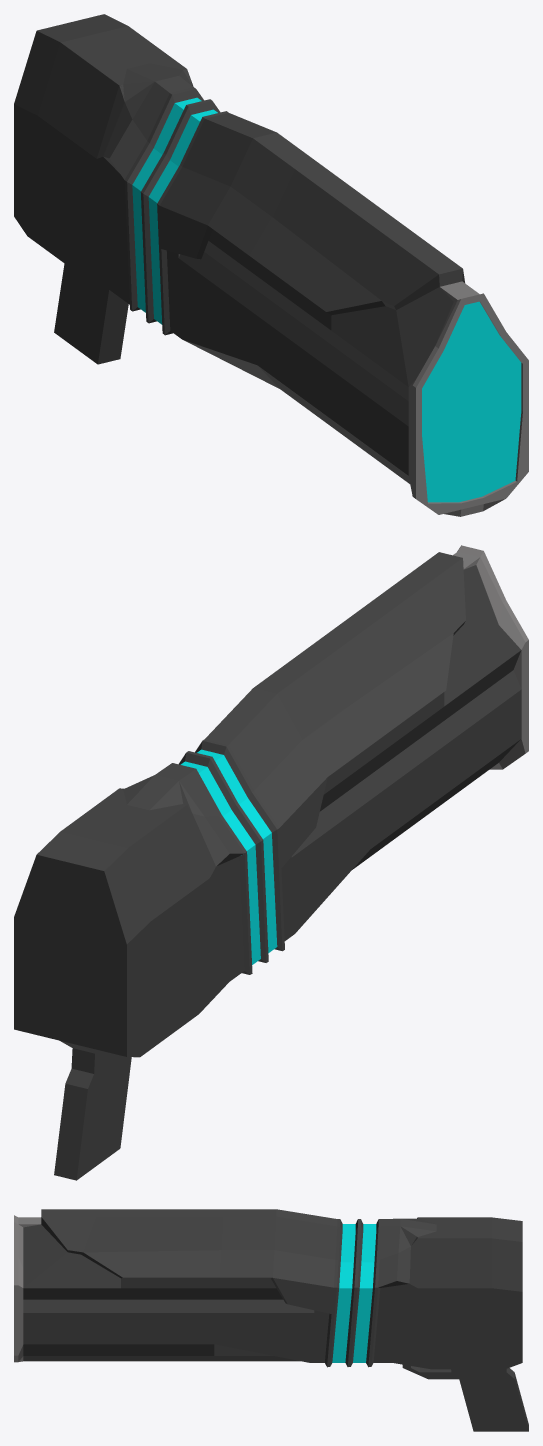
The model's file is PlasmaShotgun.fbx.
The picture shows the model from 3 angles, top to bottom: view 1: azimuth 30°, elevation 25°; view 2: azimuth 150°, elevation 25°; view 3: azimuth 270°, elevation 25°; orthographic projection. The views are drawn at different scales.
Visible parts, largest first — view 1: Plasma Gun; view 2: Plasma Gun; view 3: Plasma Gun.
Boxes of the visible parts, x1,y1,x2,y2 form: Plasma Gun: (14, 14, 528, 516); Plasma Gun: (14, 545, 528, 1180); Plasma Gun: (14, 1209, 528, 1431).
Size of the model in its own units: 213 by 577 by 1250.
